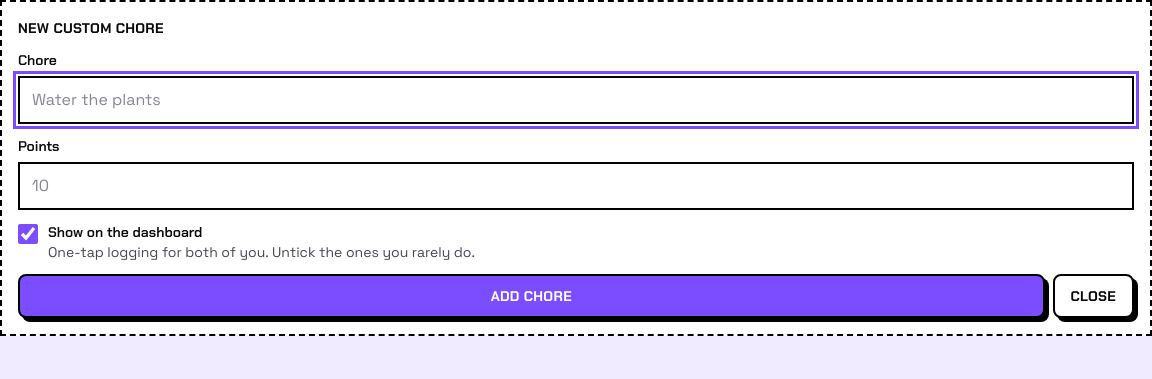
Test case: client-side validation stops the unpresentable payloads › sends nothing for points 0
The image size is (1152, 379).
In the field labelled "Chore": coordinates (576, 100) [18, 76, 1134, 124], type "Valid title"
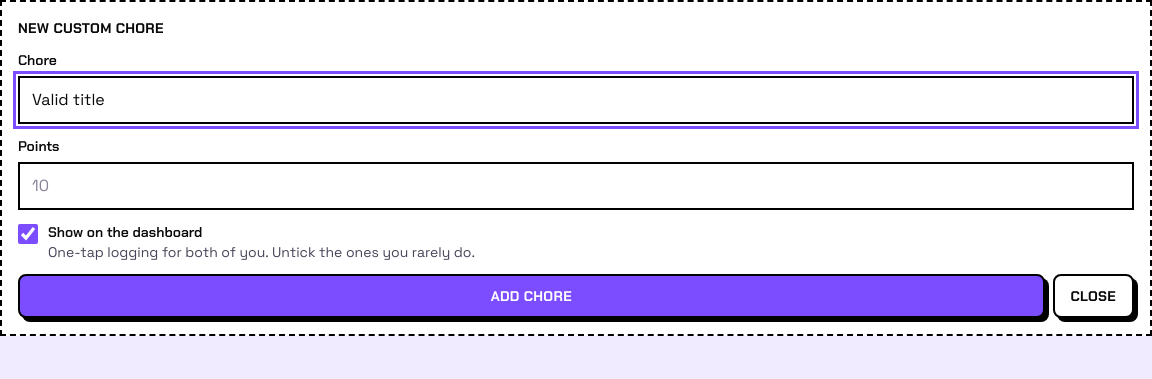
In the number field labelled "Points": coordinates (576, 186) [18, 162, 1134, 210], type "0"
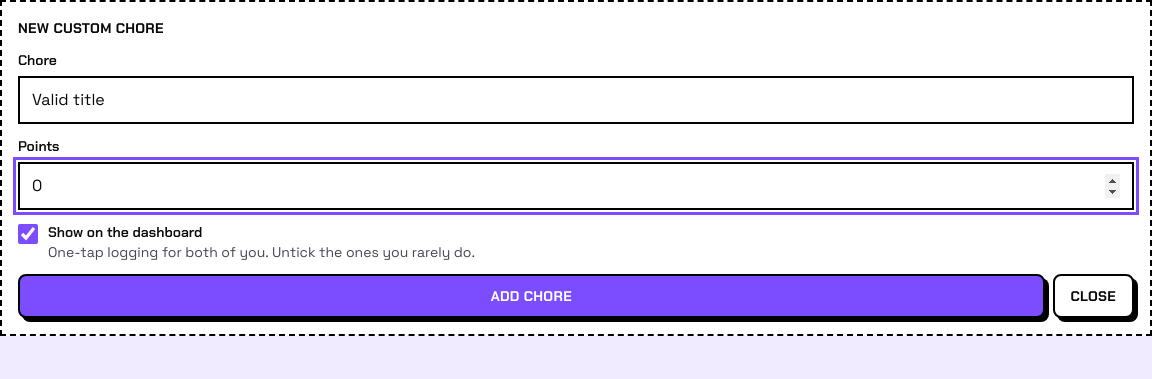
Click the button "Add chore": coordinates (531, 296) [18, 274, 1045, 318]
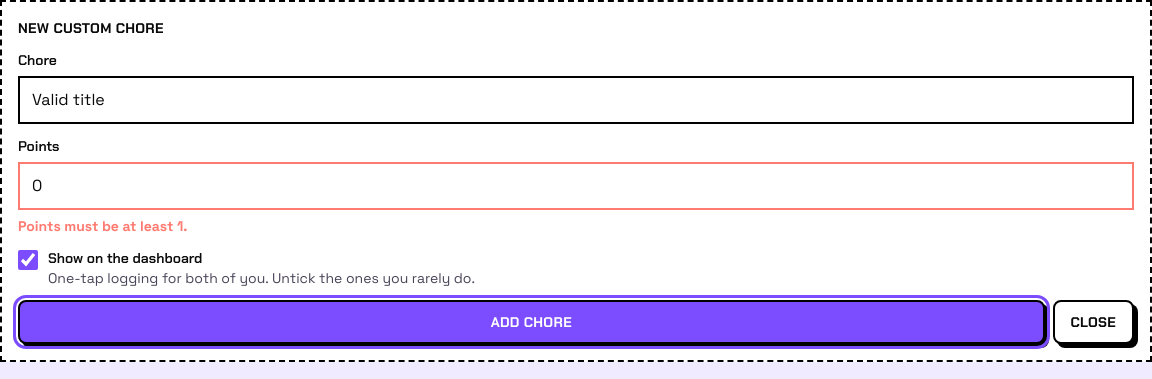
Expected: the text "Points must be at least 1." is shown, [18, 217, 188, 235]
